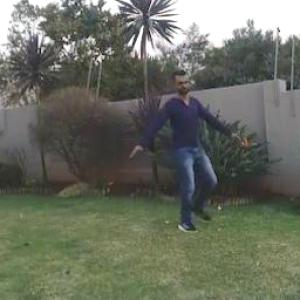land: (110, 67, 250, 238)
